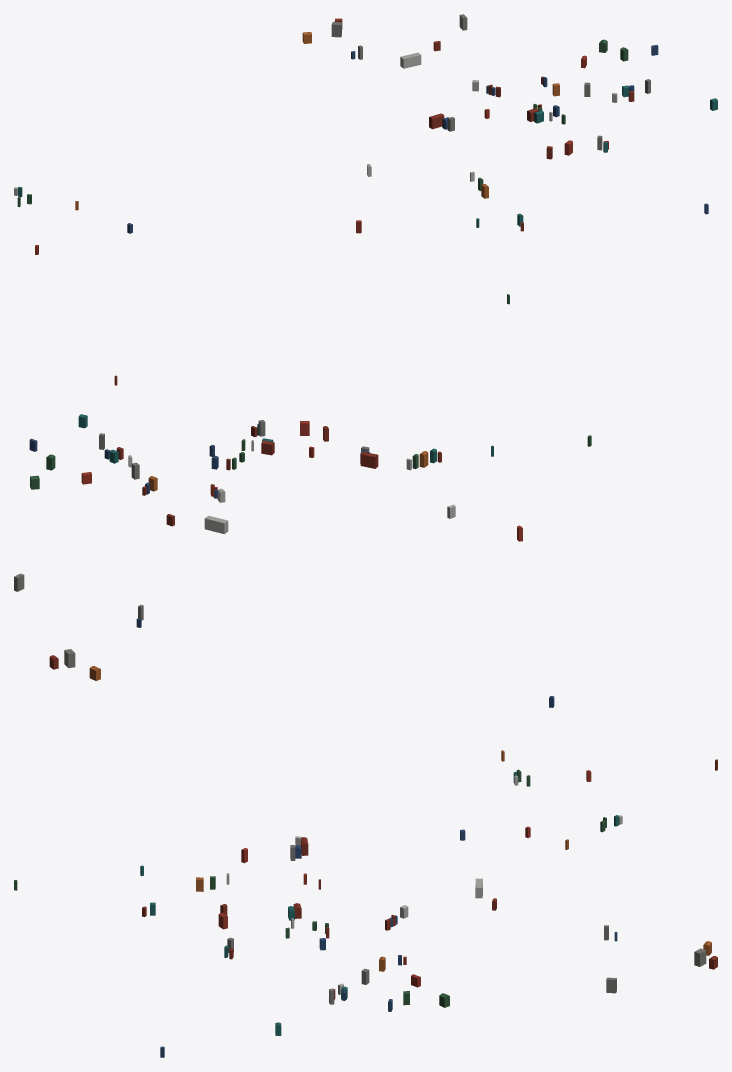
The model's file is near-15-27357-14874.fe333e02.glb.
3 renders of one model, top to bottom at view 1: azimuth 30°, elevation 25°; view 2: azimuth 150°, elevation 25°; view 3: azimuth 270°, elevation 25°, orthographic. The views are drawn at different scales.
Bounding box in the file's own units: 1149 × 374 × 1109.
